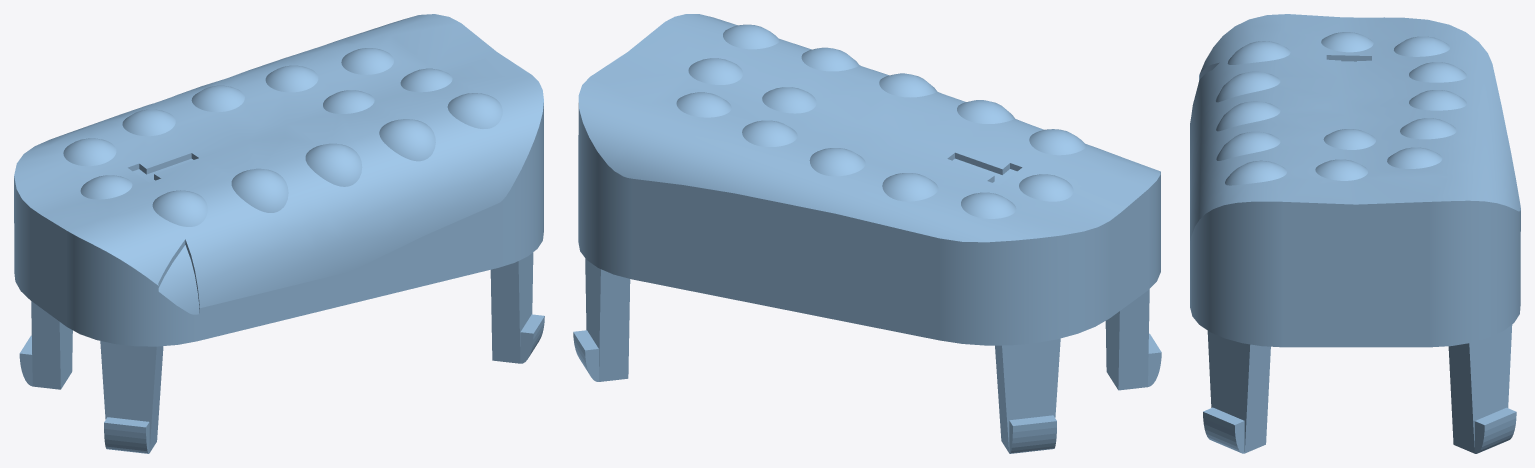
The picture shows the model from 3 angles, left to right: view 1: azimuth 30°, elevation 25°; view 2: azimuth 150°, elevation 25°; view 3: azimuth 270°, elevation 25°; orthographic projection. The views are drawn at different scales.
Visible parts, largest first — view 1: part_0; view 2: part_0; view 3: part_0.
Part boxes in pixels (x1=…): part_0: x1=14, y1=14, x2=544, y2=453; part_0: x1=573, y1=14, x2=1161, y2=453; part_0: x1=1190, y1=14, x2=1520, y2=453.
Bounding box in the file's own units: 38.92 × 20.53 × 23.28.
